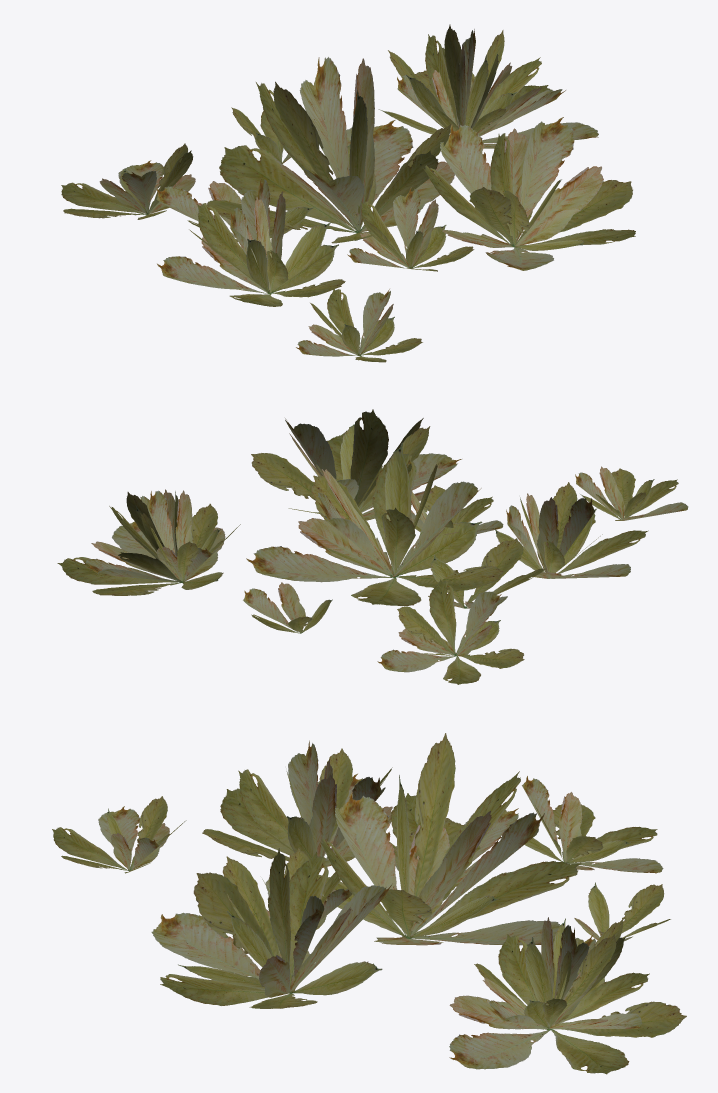
File: tinyweed.obj
3 views of the same model, one above another, from view 1: azimuth 30°, elevation 25°; view 2: azimuth 150°, elevation 25°; view 3: azimuth 270°, elevation 25° (orthographic). The views are drawn at different scales.
Parts seen in each view (by area): view 1: tiny_weeds_03_02; view 2: tiny_weeds_03_02; view 3: tiny_weeds_03_02.
Boxes of the visible parts, left/top/right/bottom form: tiny_weeds_03_02: left=61, top=24, right=635, bottom=362; tiny_weeds_03_02: left=57, top=409, right=688, bottom=684; tiny_weeds_03_02: left=52, top=733, right=686, bottom=1074.
Size of the model in its own units: 142 by 43.96 by 143.
1 material, 1 textured.
